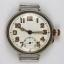watch: (5, 10, 55, 57)
